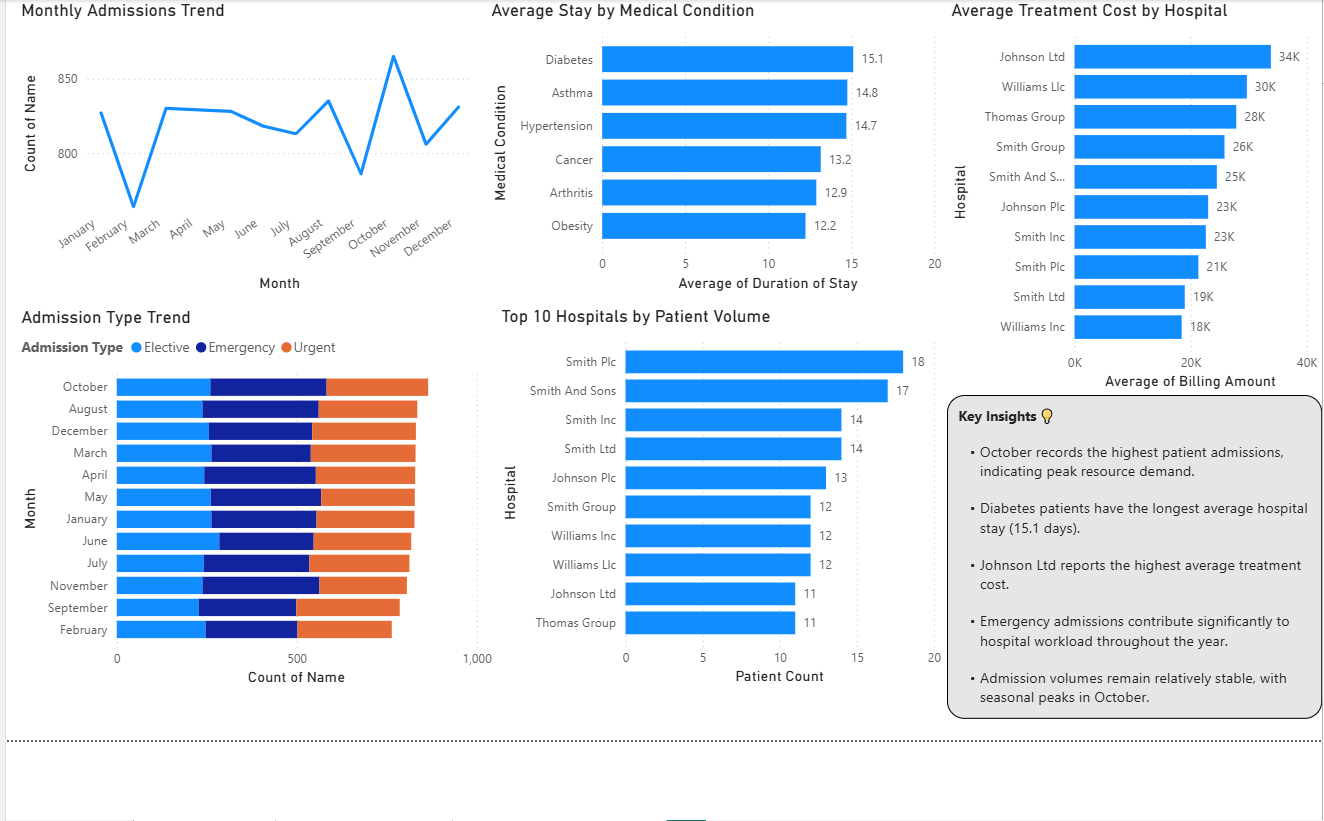

The dashboard page shown, as its layout file describes it:
{"tool":"powerbi","page":{"name":"Hospital Resource Management","canvas":[1280,720],"ordinal":2},"visuals":[{"type":"lineChart","title":"Monthly Admissions Trend","fields":{"Category":["Healthcare_Data_v1.Date of Admission.Variation.Date Hierarchy.Month"],"Y":["CountNonNull(Healthcare_Data_v1.Name)"]},"box":[9.5,0,448.1,287.8],"z":0},{"type":"barChart","title":"Admission Type Trend","fields":{"Series":["Healthcare_Data_v1.Admission Type"],"Category":["Healthcare_Data_v1.Date of Admission.Variation.Date Hierarchy.Month"],"Y":["CountNonNull(Healthcare_Data_v1.Name)"]},"box":[9.5,298.4,468.1,373.2],"z":1000},{"type":"barChart","title":"Average Stay by Medical Condition","fields":{"Category":["Healthcare_Data_v1.Medical Condition"],"Y":["Avg(Healthcare_Data_v1.Duration of Stay)"]},"box":[467,0,448,288],"z":2000},{"type":"barChart","title":"Top 10 Hospitals by Patient Volume","fields":{"Category":["Healthcare_Data_v1.Hospital"],"Y":["Count(Healthcare_Data_v1.Name)"]},"box":[477,298,438,373],"z":3000},{"type":"barChart","title":"Average Treatment Cost by Hospital","fields":{"Category":["Healthcare_Data_v1.Hospital"],"Y":["Avg(Healthcare_Data_v1. Billing Amount )"]},"box":[914.1,0,365.9,383.8],"z":4000},{"type":"textbox","box":[915.3,384.2,364.7,315.1],"z":5000}]}

Visuals, with their boxes on the page's 1280x720 design canvas (x1, y1, x2, y2). These are canvas units, not pixel positions in the 1324x821 screenshot, which may show the page scaled, cropped or inside an application window:
"Monthly Admissions Trend" lineChart: 10, 0, 458, 288
"Admission Type Trend" barChart: 10, 298, 478, 672
"Average Stay by Medical Condition" barChart: 467, 0, 915, 288
"Top 10 Hospitals by Patient Volume" barChart: 477, 298, 915, 671
"Average Treatment Cost by Hospital" barChart: 914, 0, 1280, 384
textbox: 915, 384, 1280, 699
